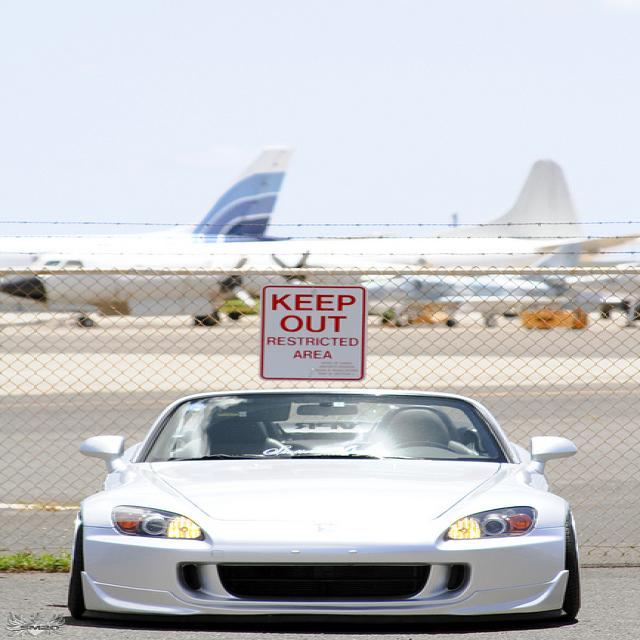Vehicle: (67, 392, 588, 616)
